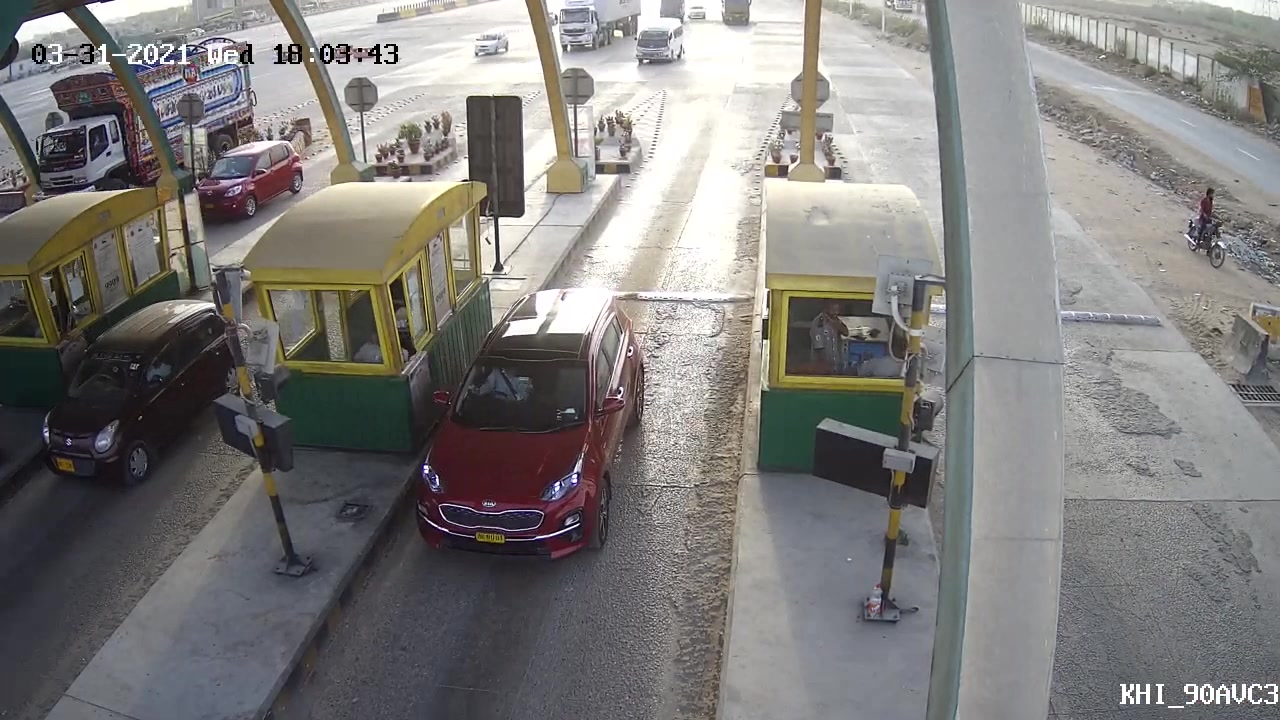F1: (405, 278, 659, 565)
